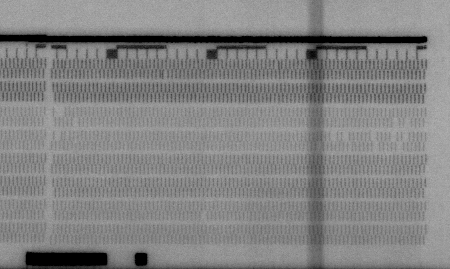Broken hole: (388, 131, 412, 152), (367, 129, 383, 154), (327, 131, 350, 143), (391, 118, 412, 131), (49, 129, 64, 141), (52, 107, 67, 118), (70, 116, 82, 129), (197, 211, 210, 222)
Oblique printing: (418, 163, 429, 177), (159, 70, 171, 82), (272, 59, 283, 72)
